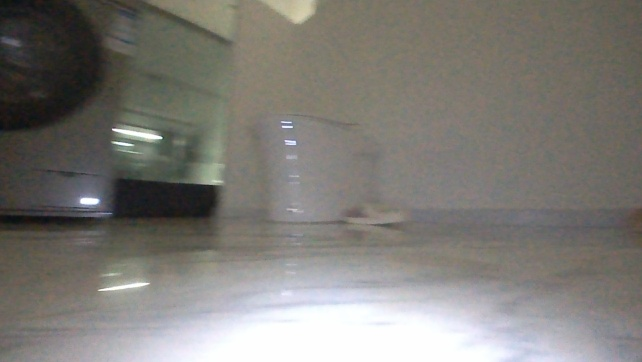toilet: (249, 100, 392, 228)
washing_machine1: (0, 4, 146, 218)
